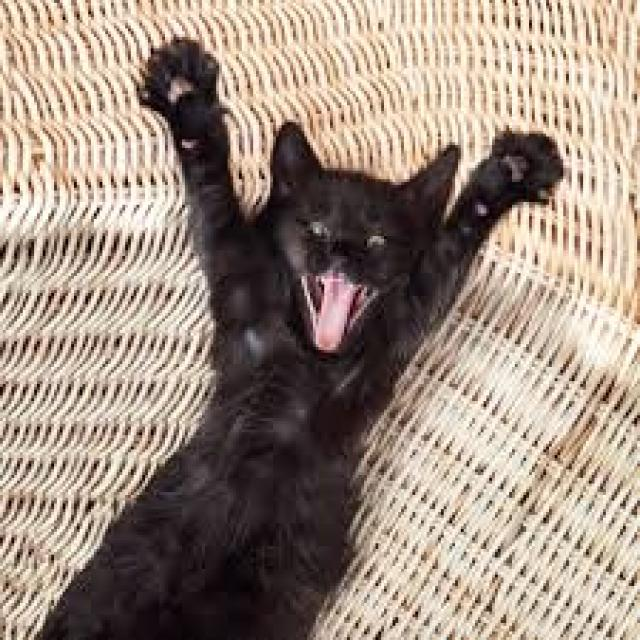Cat: (0, 31, 572, 640)
